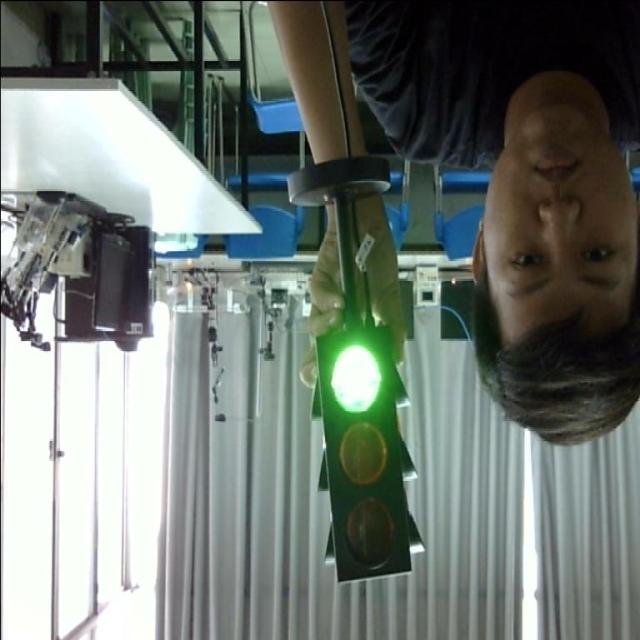green light: (324, 341, 388, 419)
